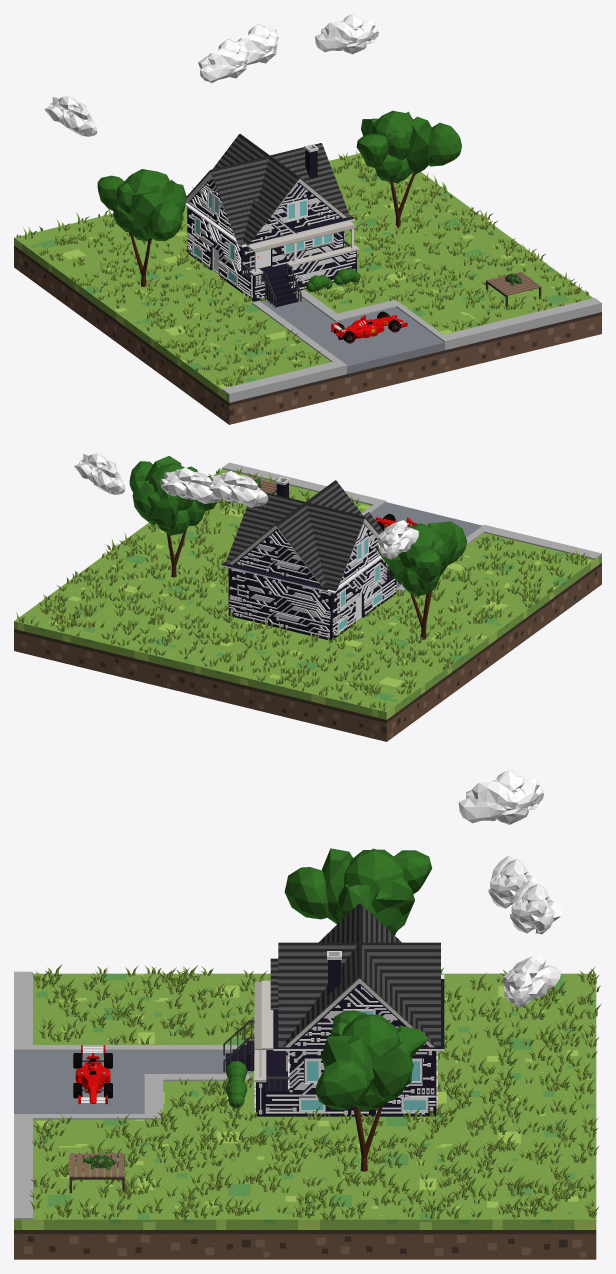
3 views of the same model, one above another, from view 1: azimuth 30°, elevation 25°; view 2: azimuth 150°, elevation 25°; view 3: azimuth 270°, elevation 25° (orthographic). The views are drawn at different scales.
Visible parts, largest first — view 1: Cube.006, Cube.918, Circle.012_Grass_0.192, Cube.007, tree, tree.001, VEHICLES_FORMULA_1, Cube.009; view 2: Cube.006, Cube.918, Circle.012_Grass_0.192, Cube.007, tree.001, tree; view 3: Cube.006, Circle.012_Grass_0.192, Cube.918, tree, Cube.007, tree.001, VEHICLES_FORMULA_1, Cube.009.
Boxes of the visible parts, x1=… form: Cube.006: x1=14, y1=153, x2=601, y2=424; Cube.918: x1=185, y1=134, x2=359, y2=307; Circle.012_Grass_0.192: x1=16, y1=150, x2=588, y2=386; Cube.007: x1=44, y1=14, x2=378, y2=136; tree: x1=356, y1=110, x2=461, y2=228; tree.001: x1=97, y1=169, x2=186, y2=286; VEHICLES_FORMULA_1: x1=331, y1=311, x2=407, y2=343; Cube.009: x1=486, y1=272, x2=541, y2=306; Cube.006: x1=14, y1=462, x2=601, y2=741; Cube.918: x1=221, y1=477, x2=398, y2=640; Circle.012_Grass_0.192: x1=16, y1=468, x2=588, y2=711; Cube.007: x1=74, y1=453, x2=418, y2=559; tree.001: x1=375, y1=521, x2=467, y2=639; tree: x1=129, y1=456, x2=216, y2=577; Cube.006: x1=14, y1=971, x2=596, y2=1259; Circle.012_Grass_0.192: x1=29, y1=964, x2=601, y2=1220; Cube.918: x1=223, y1=903, x2=444, y2=1116; tree: x1=315, y1=1010, x2=428, y2=1171; Cube.007: x1=458, y1=770, x2=561, y2=1007; tree.001: x1=284, y1=848, x2=432, y2=935; VEHICLES_FORMULA_1: x1=73, y1=1045, x2=112, y2=1104; Cube.009: x1=69, y1=1153, x2=124, y2=1193.
Bounding box in the file's own units: 4071 × 2153 × 4040.
Materials: 40 (3 with a texture image).
